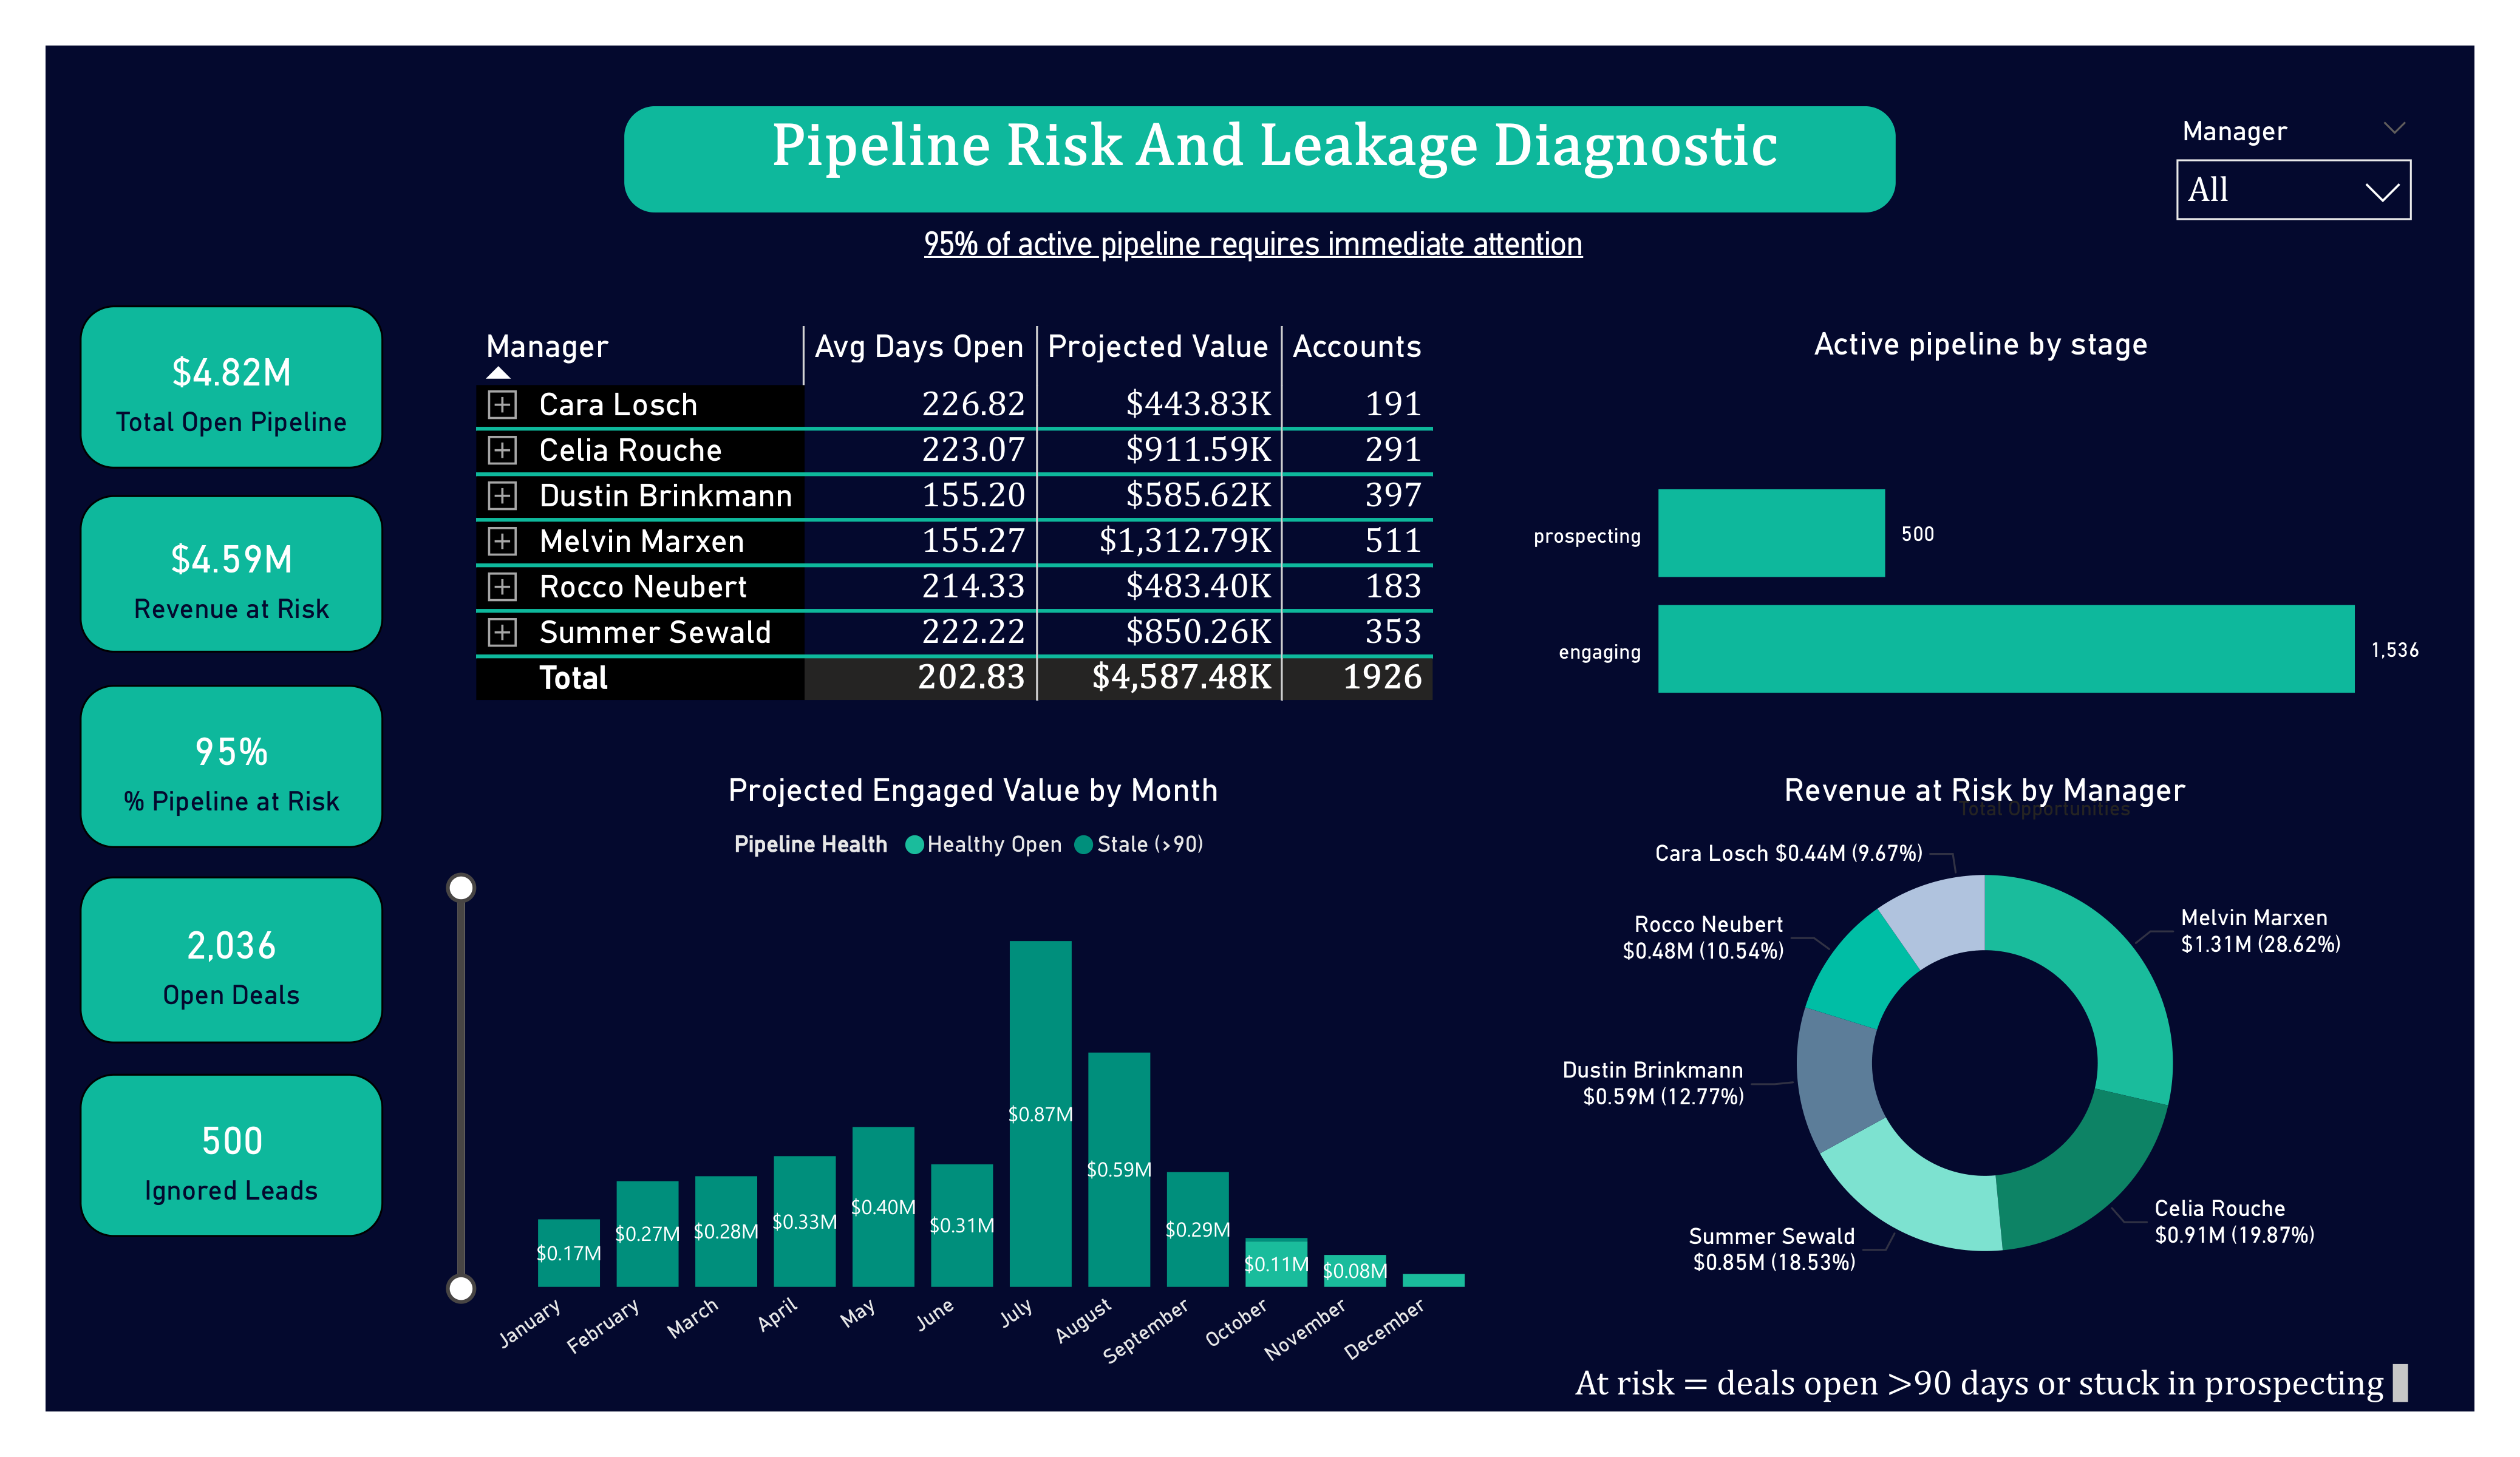

The dashboard page shown, as its layout file describes it:
{"tool":"powerbi","page":{"name":"Pipeline Risk & Leakage Diagnostic","canvas":[1280,720],"ordinal":1},"visuals":[{"type":"pivotTable","fields":{"Rows":["sales_teams.manager","sales_teams.sales_agent"],"Values":["Avg(pipeline.Days Open)","Sum(pipeline.Projected Value)","Count(pipeline.opportunity_id)"]},"box":[221.7,143.3,566.7,250],"z":0},{"type":"barChart","title":"Active pipeline by stage","fields":{"Category":["pipeline.deal_stage"],"Y":["pipeline.Total Opportunities"]},"box":[783.3,146.7,473.3,261.7],"z":1000},{"type":"card","fields":{"Values":["Sum(pipeline.Projected Value)"]},"box":[17.6,236.7,160,83.3],"z":2000},{"type":"card","fields":{"Values":["Count(pipeline.opportunity_id)"]},"box":[17.6,541.7,160,86.7],"z":3000},{"type":"card","fields":{"Values":["CountNonNull(pipeline.deal_stage)"]},"box":[18,438,160,88],"z":4000},{"type":"card","fields":{"Values":["pipeline.% Pipeline at Risk"]},"box":[17.6,336.7,160,86.7],"z":5000},{"type":"textbox","box":[305.5,31.8,669.1,56.4],"z":6000},{"type":"slicer","fields":{"Values":["sales_teams.manager"]},"box":[1113.4,31.8,143.2,66.8],"z":7000},{"type":"donutChart","title":"Revenue at Risk by Manager","fields":{"Category":["sales_teams.manager"],"Y":["Sum(pipeline.Projected Value)"]},"box":[788,382,468,290],"z":8000},{"type":"card","fields":{"Values":["Sum(pipeline.Projected Value)"]},"box":[17.6,136.7,160,86.7],"z":9000},{"type":"columnChart","title":"Projected Engaged Value by Month","fields":{"Y":["Sum(pipeline.Projected Value)"],"Category":["pipeline.engage_date.Variation.Date Hierarchy.Month"],"Series":["pipeline.Pipeline Health"]},"box":[208,382,562,332],"z":10000},{"type":"textbox","box":[800.6,690,449.4,30],"z":11000},{"type":"textbox","box":[458.3,89.2,366.7,30],"z":12000}]}

Visuals, with their boxes on the page's 1280x720 design canvas (x1, y1, x2, y2). These are canvas units, not pixel positions in the 2520x1457 screenshot, which may show the page scaled, cropped or inside an application window:
pivotTable - sales_teams.manager x sales_teams.sales_agent: bbox=[222, 143, 788, 393]
"Active pipeline by stage" barChart: bbox=[783, 147, 1257, 408]
card - Sum(pipeline.Projected Value): bbox=[18, 237, 178, 320]
card - Count(pipeline.opportunity_id): bbox=[18, 542, 178, 628]
card - CountNonNull(pipeline.deal_stage): bbox=[18, 438, 178, 526]
card - pipeline.% Pipeline at Risk: bbox=[18, 337, 178, 423]
textbox: bbox=[306, 32, 975, 88]
slicer - sales_teams.manager: bbox=[1113, 32, 1257, 99]
"Revenue at Risk by Manager" donutChart: bbox=[788, 382, 1256, 672]
card - Sum(pipeline.Projected Value): bbox=[18, 137, 178, 223]
"Projected Engaged Value by Month" columnChart: bbox=[208, 382, 770, 714]
textbox: bbox=[801, 690, 1250, 720]
textbox: bbox=[458, 89, 825, 119]
